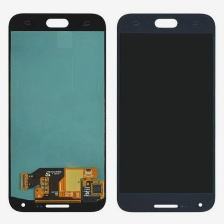phone: (110, 11, 217, 217), (6, 9, 107, 215)
